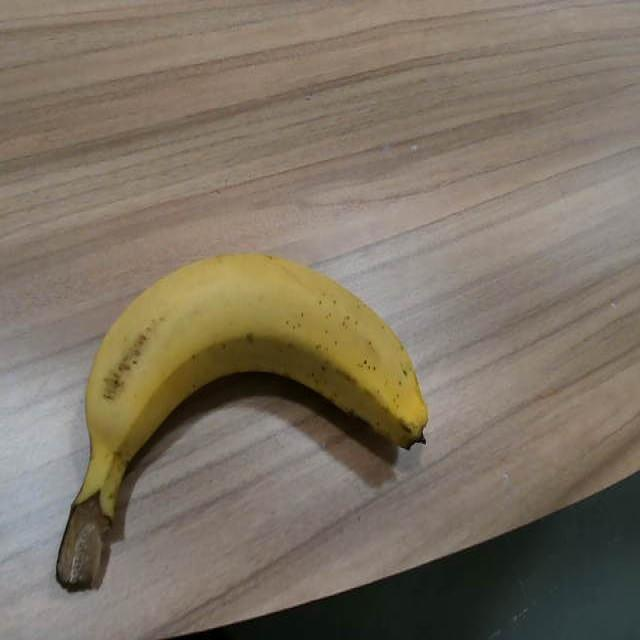Ripe: (48, 247, 438, 613)
